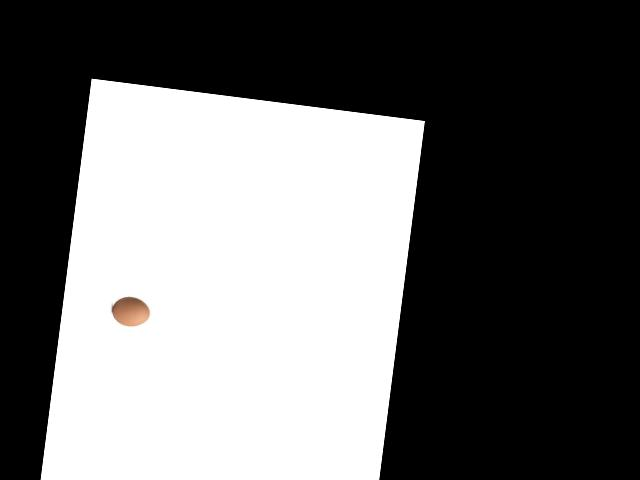egg: (110, 294, 151, 327)
